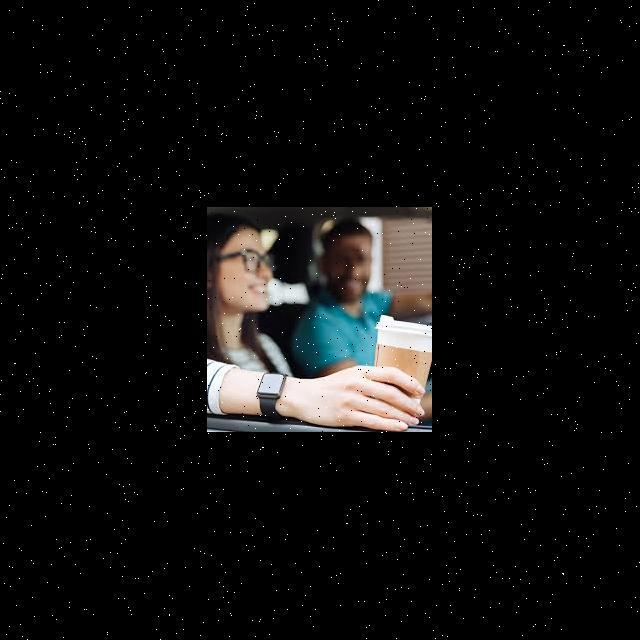watch: (254, 346, 294, 426)
